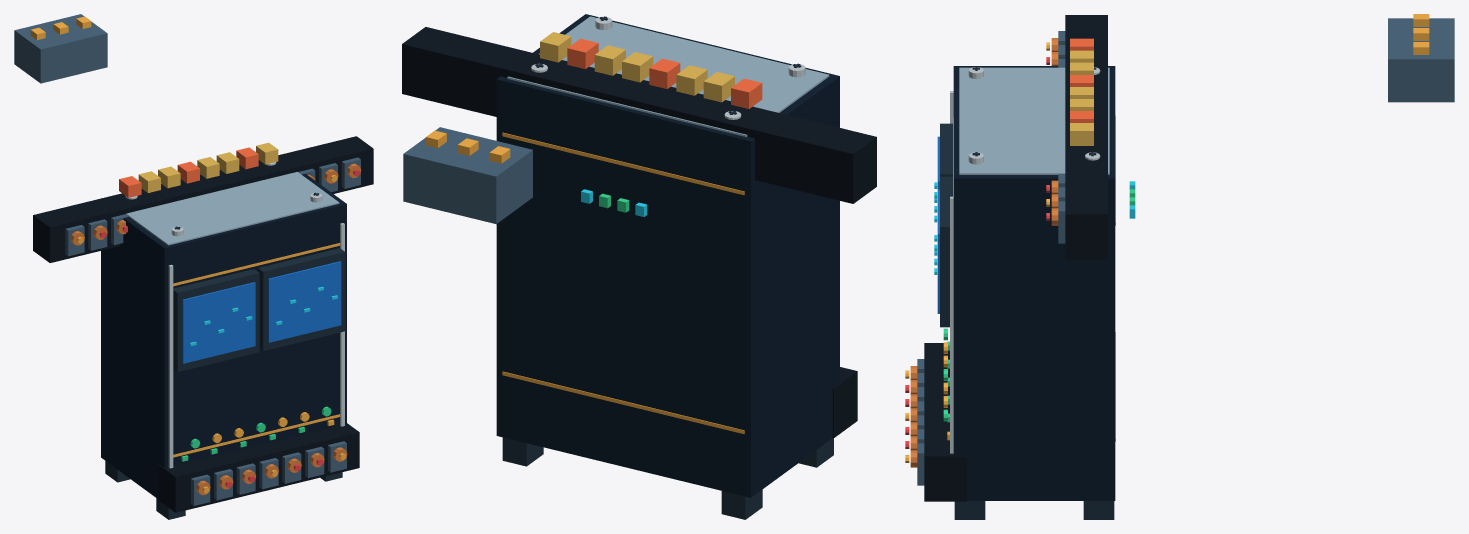
Rendered from 52_L78_AcceleratedBiasStressTestSource.fbx.
3 renders of one model, left to right at view 1: azimuth 30°, elevation 25°; view 2: azimuth 150°, elevation 25°; view 3: azimuth 270°, elevation 25°, orthographic. The views are drawn at different scales.
Visible parts, largest first — view 1: AcceleratedBiasStressTestSource, AcceleratedBiasStressTestSource_Part_0135; view 2: AcceleratedBiasStressTestSource, AcceleratedBiasStressTestSource_Part_0135; view 3: AcceleratedBiasStressTestSource, AcceleratedBiasStressTestSource_Part_0135.
Boxes of the visible parts, x1,y1,x2,y2 form: AcceleratedBiasStressTestSource: [33, 136, 373, 519]; AcceleratedBiasStressTestSource_Part_0135: [14, 14, 107, 83]; AcceleratedBiasStressTestSource: [402, 14, 876, 519]; AcceleratedBiasStressTestSource_Part_0135: [403, 127, 532, 224]; AcceleratedBiasStressTestSource: [905, 15, 1135, 519]; AcceleratedBiasStressTestSource_Part_0135: [1388, 18, 1454, 102].
Bounding box in the file's own units: 199 × 200 × 231.
